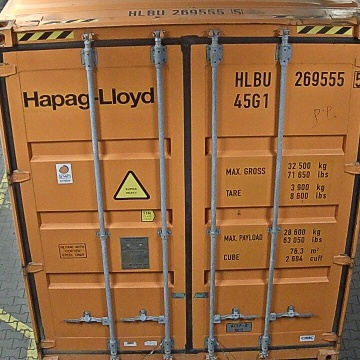serial_id: (235, 71, 360, 86)
